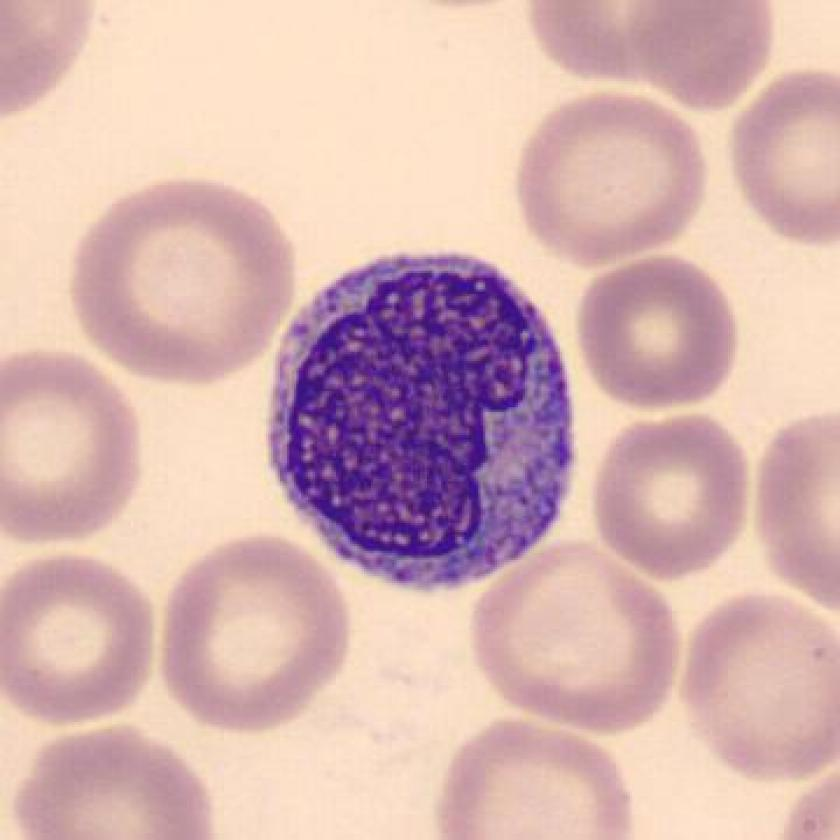monocyte: (242, 223, 613, 607)
